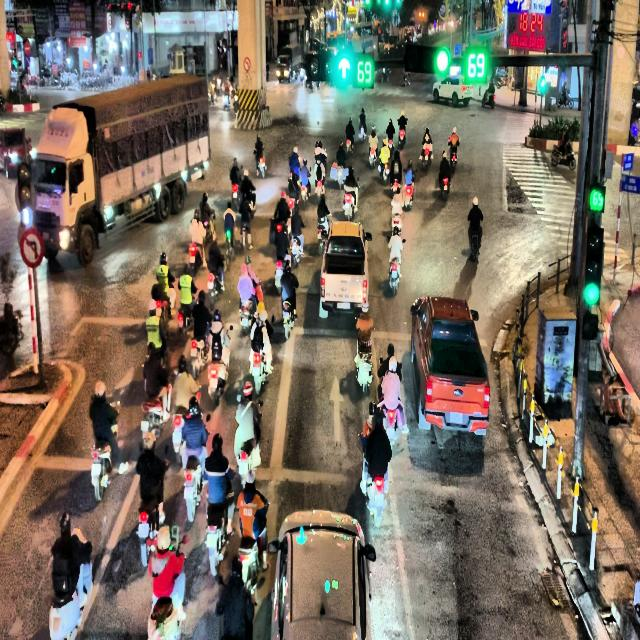lisence_plate: (446, 410, 466, 426), (332, 301, 352, 312)
